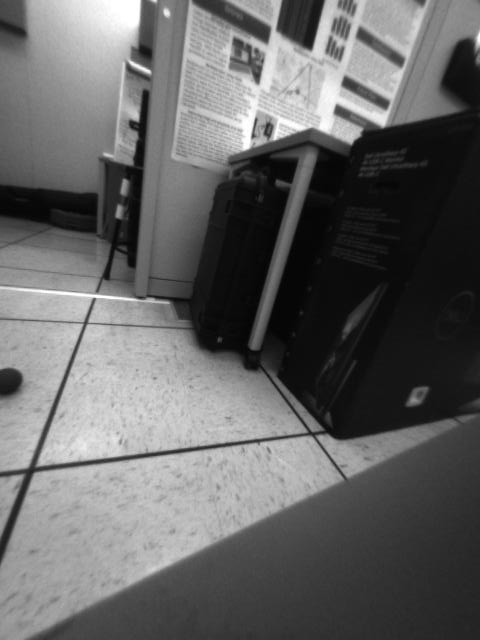dogtoy: (1, 353, 30, 406)
